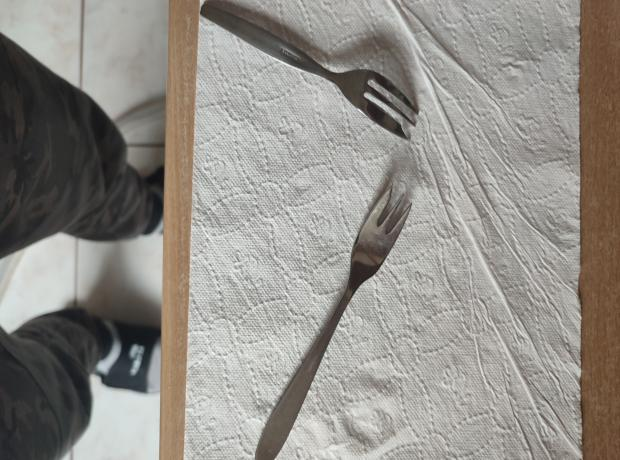metal: (255, 182, 413, 460), (199, 2, 419, 140)
